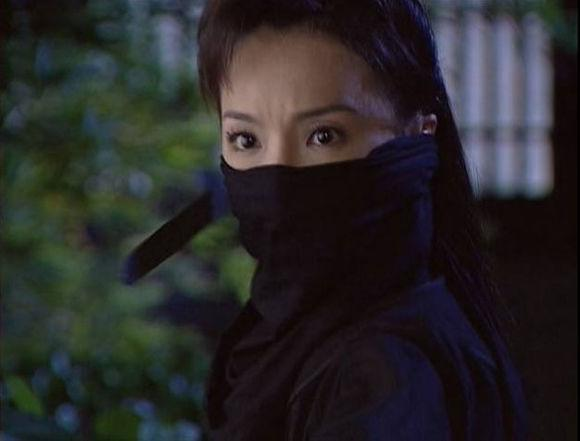OK: (220, 105, 391, 276)
